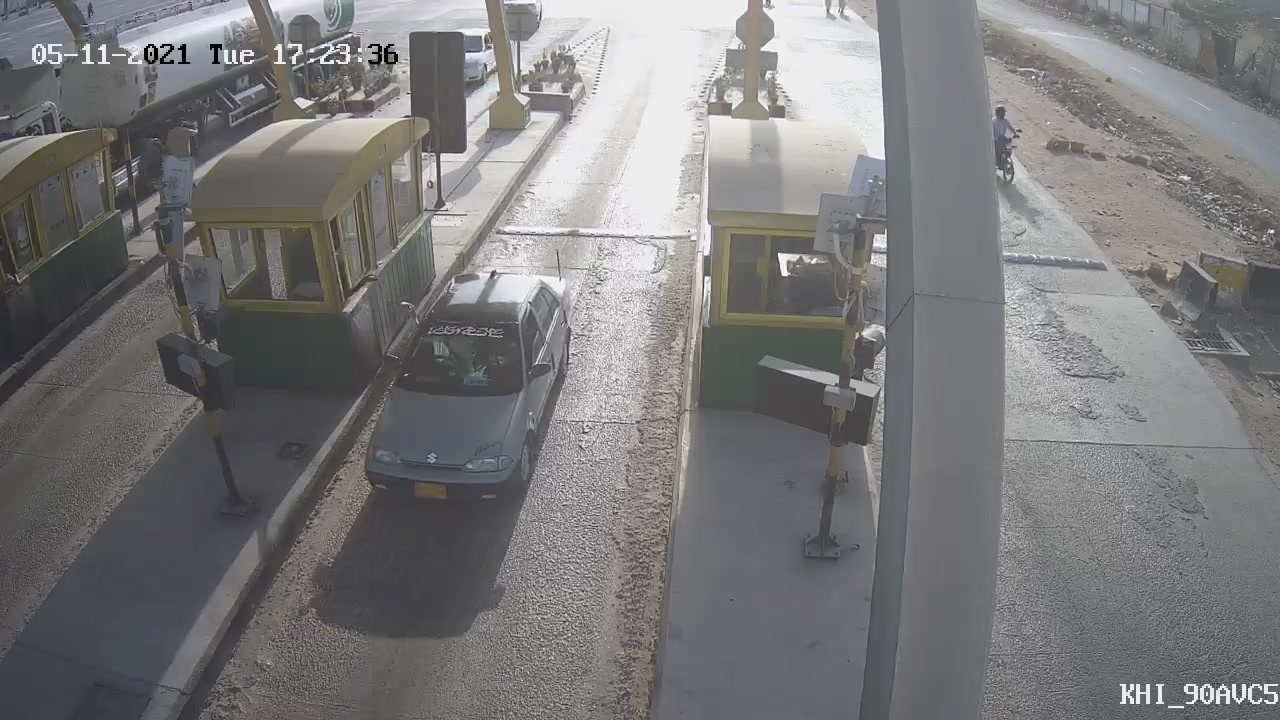F1: (339, 256, 595, 527)
